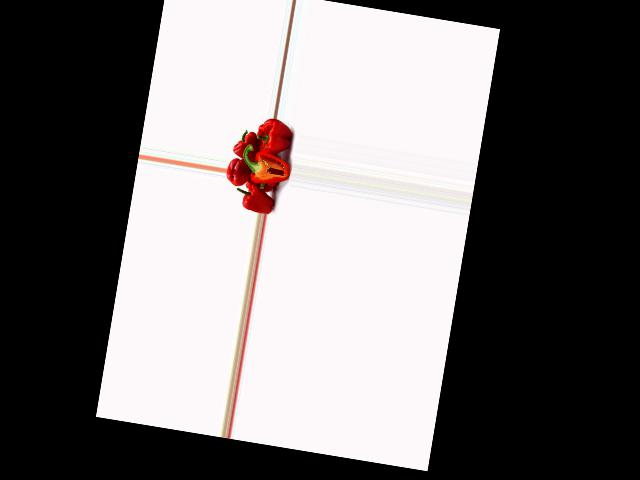bell_pepper: (231, 128, 260, 162)
